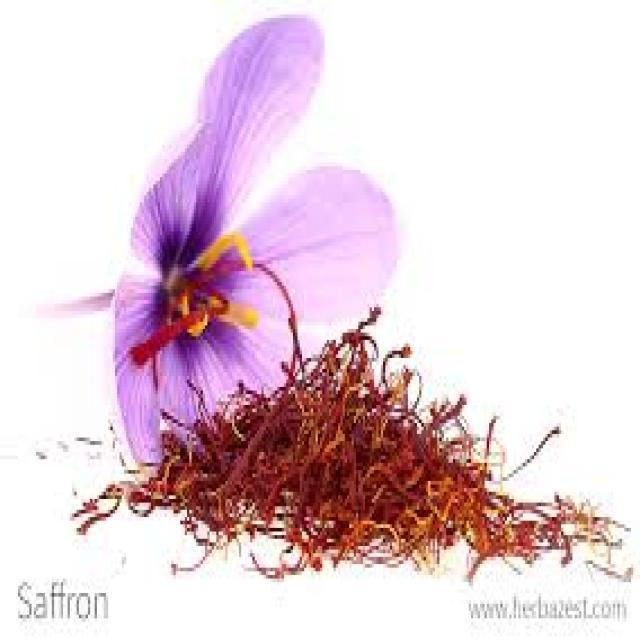Flower: (74, 16, 401, 454)
stigma: (252, 254, 305, 362), (130, 312, 195, 376)
